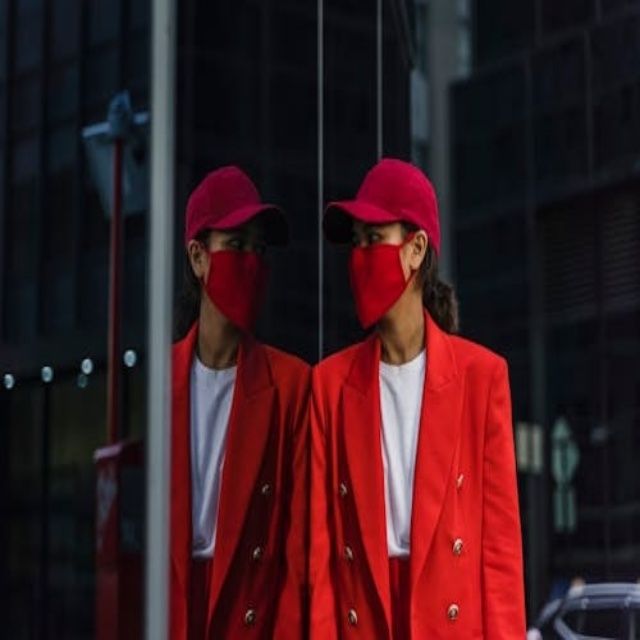Mascara: (348, 232, 420, 328), (202, 248, 272, 330)
Sin_gafas: (349, 217, 403, 253)
